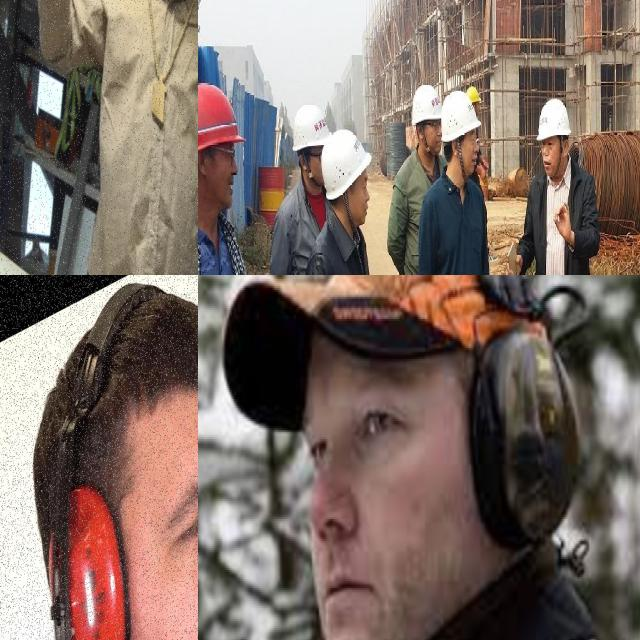Ear-protection: (229, 275, 616, 640), (40, 454, 135, 640)
No_Ear-Protection: (561, 139, 569, 157)
No_Glasses: (299, 362, 434, 486), (358, 174, 368, 195), (466, 132, 478, 148), (541, 139, 555, 149)
face_mask: (541, 147, 558, 175)
face_nomask: (352, 195, 369, 223), (463, 145, 478, 174)
hand_noglove: (553, 203, 574, 247)
head_helmet: (322, 130, 372, 201), (198, 83, 244, 151), (441, 92, 481, 144), (293, 103, 330, 151), (537, 98, 571, 140), (412, 85, 442, 124)
head_nohelmet: (37, 275, 198, 433)
person: (24, 275, 198, 640)
